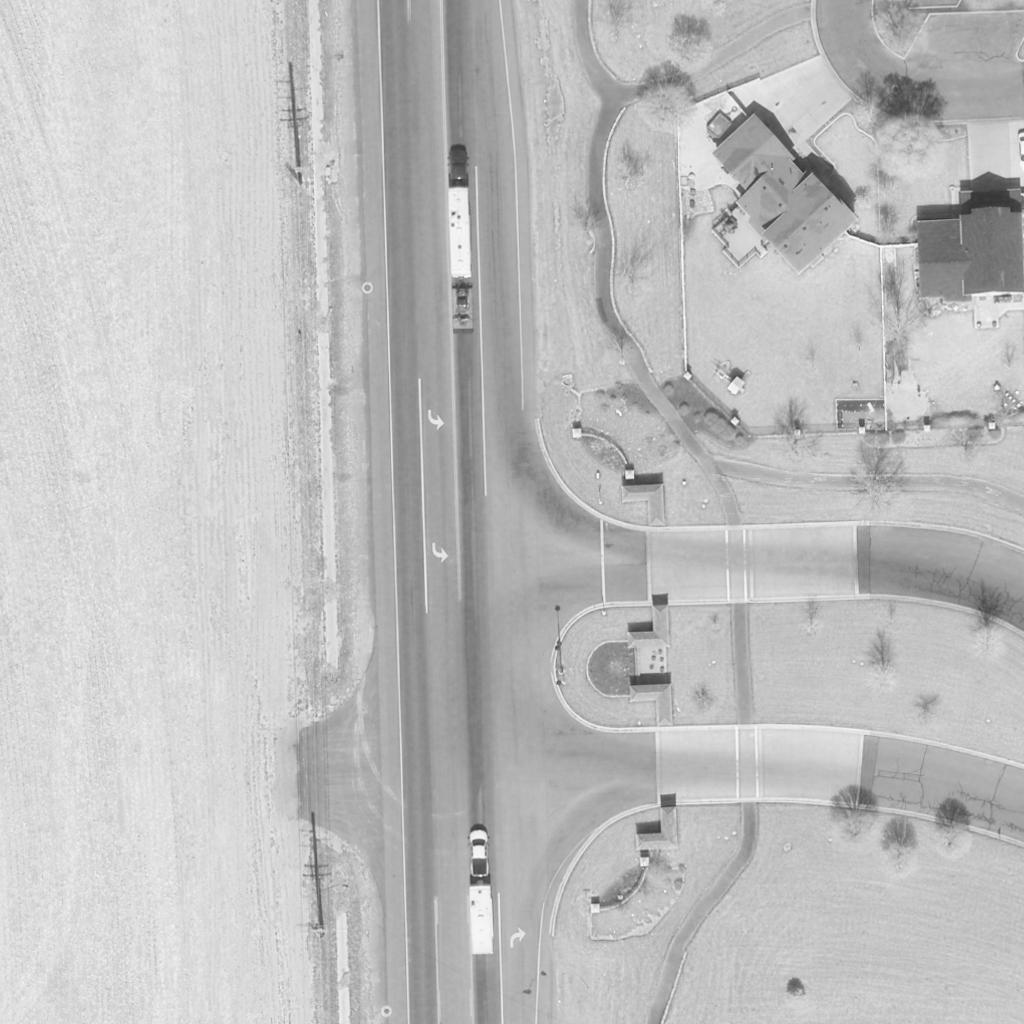vehicle: (447, 188, 475, 280), (469, 886, 497, 956), (452, 288, 476, 332), (469, 829, 491, 877), (447, 146, 471, 186)
